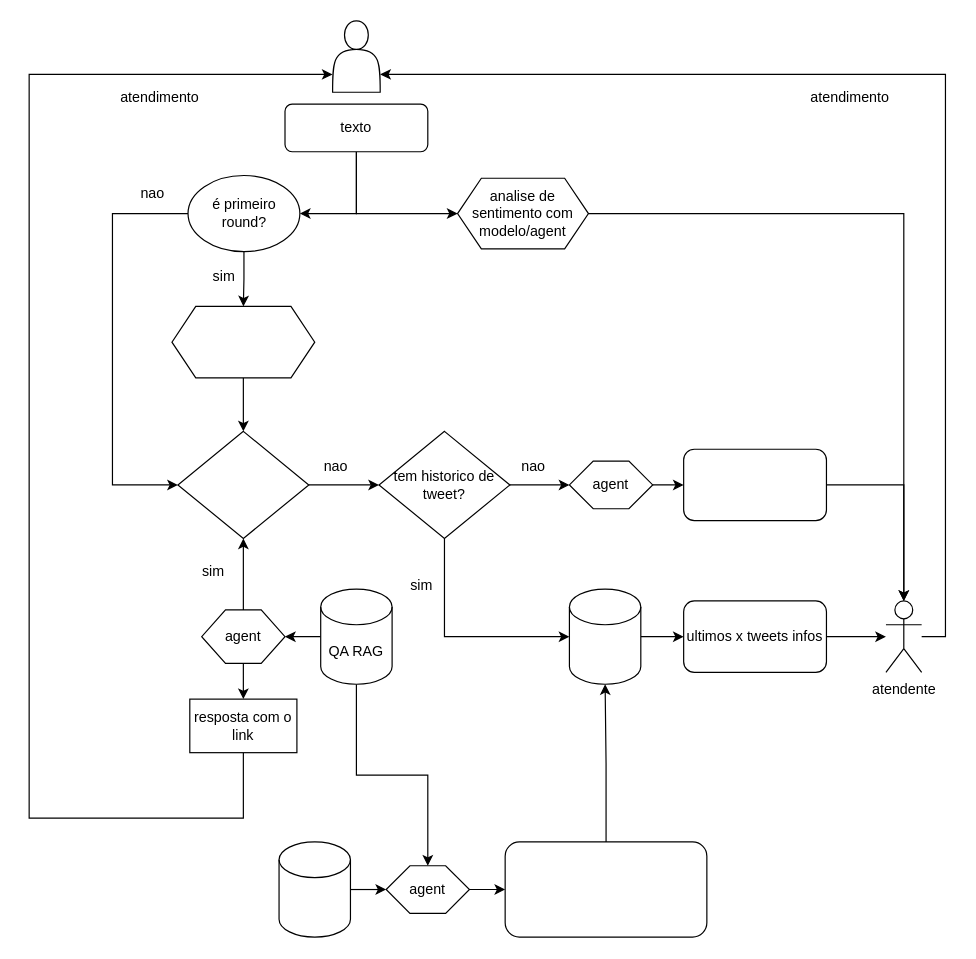
Some shapes in this 976 by 959 pixel diagram are drawn without their labels. Here are the shapes that lost their labels. From the top down, the box of each, then its label:
(171, 305, 315, 378): classificação do probema com model/agent
(177, 430, 309, 538): é pergunta que pode responder com QA?
(682, 448, 826, 521): resumo do problema, tipo de problema, ... etc
(568, 588, 641, 684): tweet texto infos
(278, 841, 350, 937): tweet historico
(504, 841, 707, 937): resumo do problema tempo do tweet tipo de problema ...
